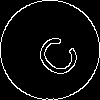C: (25, 25, 84, 83)
